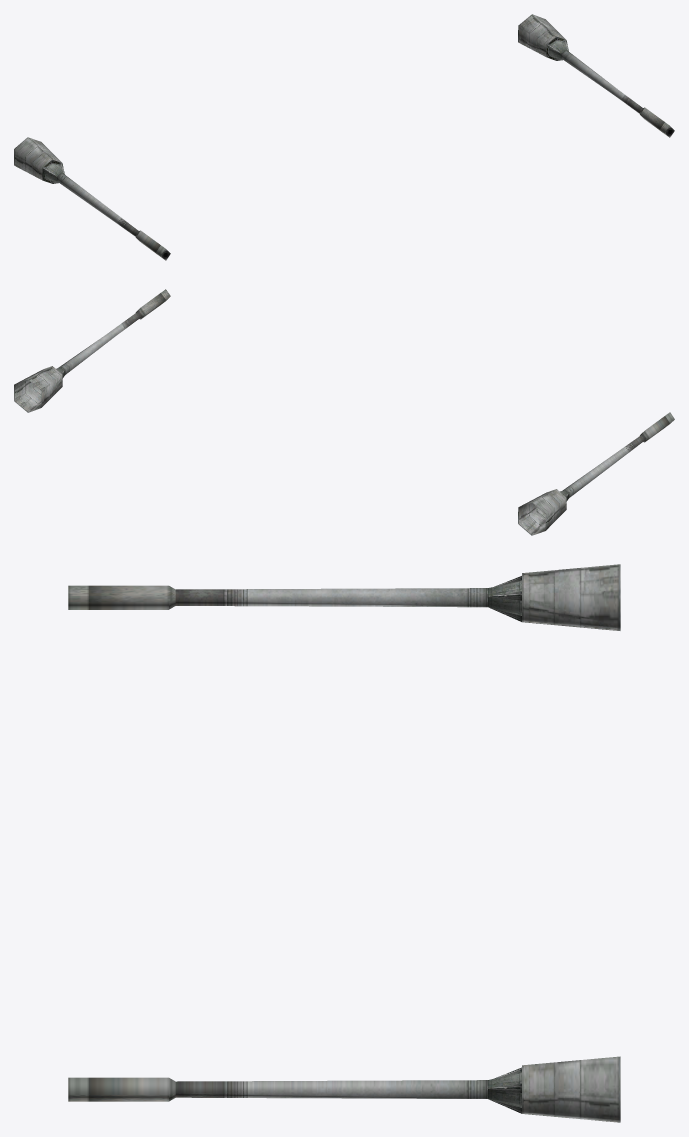
File: black_sun_fighter_light_weapon_s05_l1.fbx
The picture shows the model from 3 angles, top to bottom: view 1: azimuth 30°, elevation 25°; view 2: azimuth 150°, elevation 25°; view 3: azimuth 270°, elevation 25°; orthographic projection. The views are drawn at different scales.
Visible parts, largest first — view 1: mesh_node; view 2: mesh_node; view 3: mesh_node.
Boxes of the visible parts, x1,y1,x2,y2 form: mesh_node: (14, 14, 674, 260); mesh_node: (14, 289, 674, 535); mesh_node: (68, 564, 620, 1122).
Size of the model in its own units: 11.63 by 0.6963 by 5.23.
Materials: 1 (1 with a texture image).
